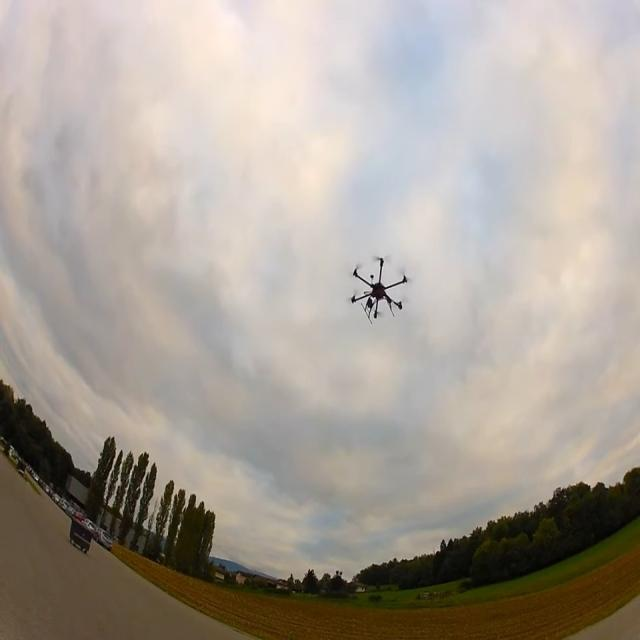drone: (350, 255, 407, 324)
